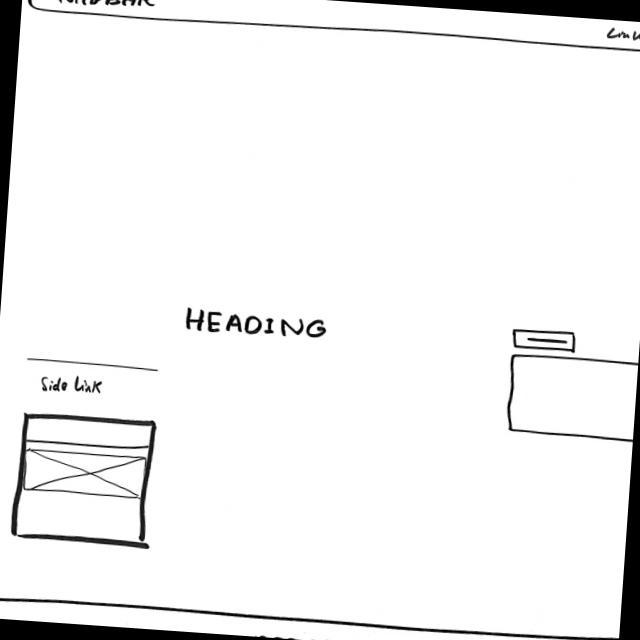container: (25, 1, 640, 54), (9, 411, 160, 549), (502, 352, 639, 445)
icon-button: (510, 328, 578, 353)
image: (22, 448, 148, 502)
label: (181, 304, 330, 343), (39, 375, 108, 397), (55, 1, 156, 12), (604, 25, 640, 44)
text: (254, 630, 384, 640)
